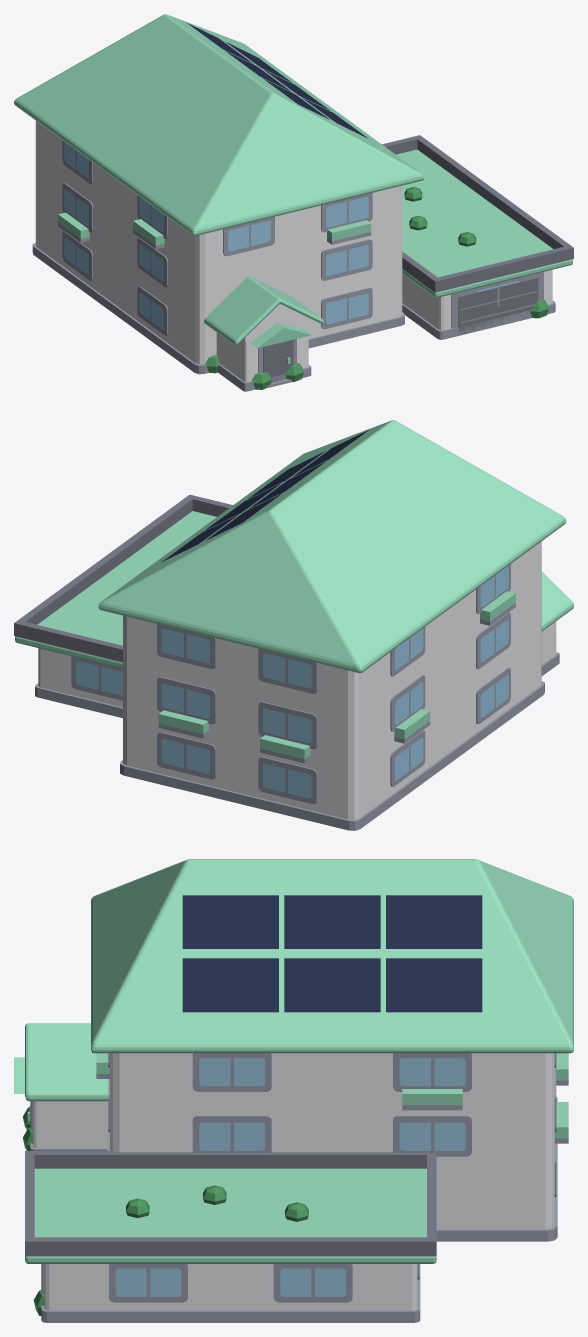
The model's file is house-2x2-3f-mansard-a-solar.glb.
The picture shows the model from 3 angles, top to bottom: view 1: azimuth 30°, elevation 25°; view 2: azimuth 150°, elevation 25°; view 3: azimuth 270°, elevation 25°; orthographic projection. The views are drawn at different scales.
Parts seen in each view (by area): view 1: house-2x2-3f-mansard-a-solar; view 2: house-2x2-3f-mansard-a-solar; view 3: house-2x2-3f-mansard-a-solar.
Boxes of the visible parts, box(x1,y1,x2,y2) form: house-2x2-3f-mansard-a-solar: box(14, 14, 573, 391); house-2x2-3f-mansard-a-solar: box(14, 420, 573, 830); house-2x2-3f-mansard-a-solar: box(14, 859, 573, 1322).
Size of the model in its own units: 2 by 1.26 by 2.04.
1 material, 1 textured.
